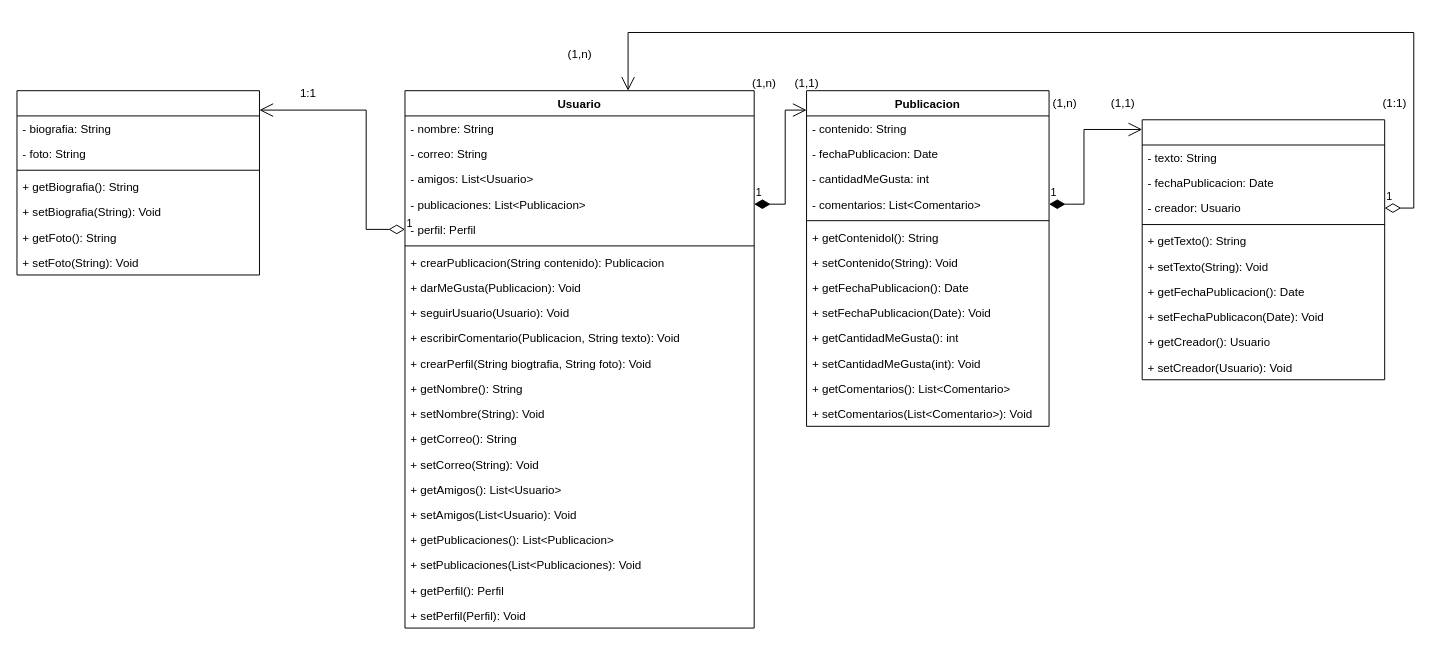
Some shapes in this 1447 by 648 pixel diagram are drawn without their labels. Here are the shapes that lost their labels. From the top down, the box of each, then its label:
(16, 90, 259, 275): Perfil
(1141, 119, 1385, 380): Comentario
